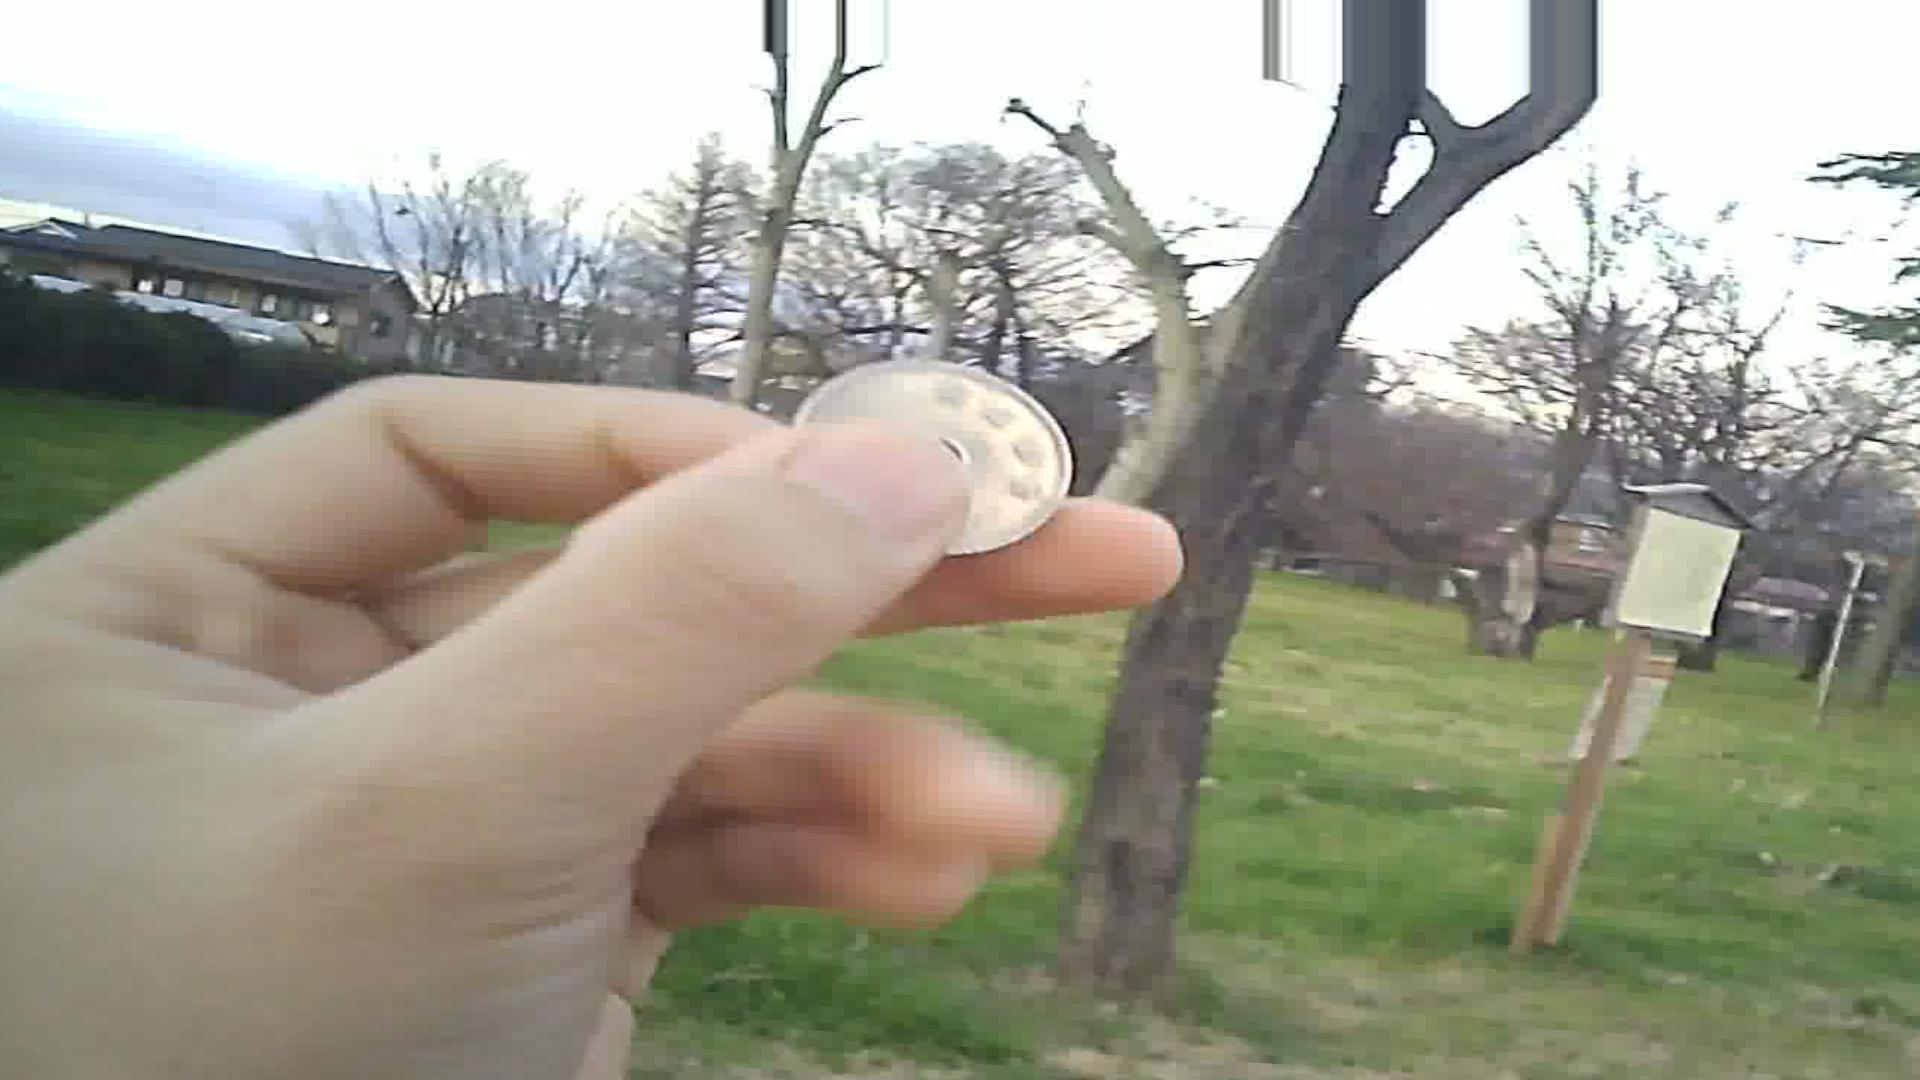50 Yen: (790, 351, 1076, 571)
